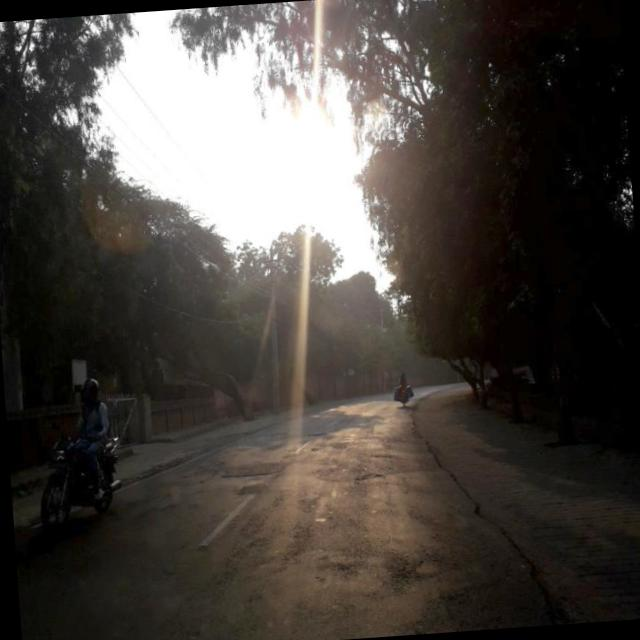pothole: (438, 451, 576, 631)
